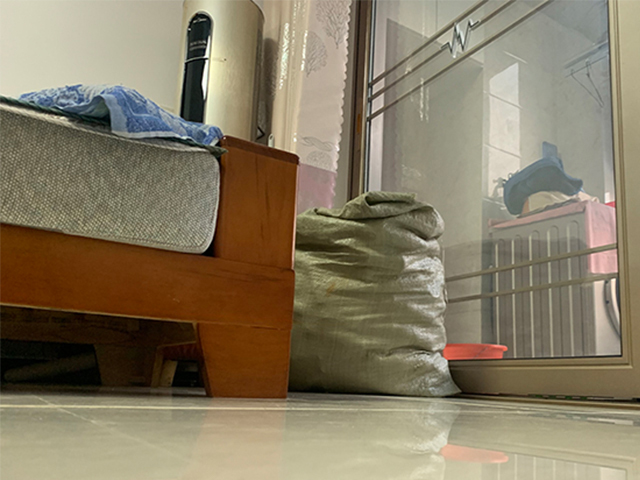sofa: (1, 82, 302, 398)
